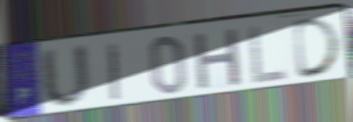0: (147, 33, 188, 97)
D: (292, 15, 344, 81)
H: (192, 26, 243, 93)
I: (106, 41, 122, 103)
L: (247, 23, 289, 87)
U: (39, 42, 94, 111)
